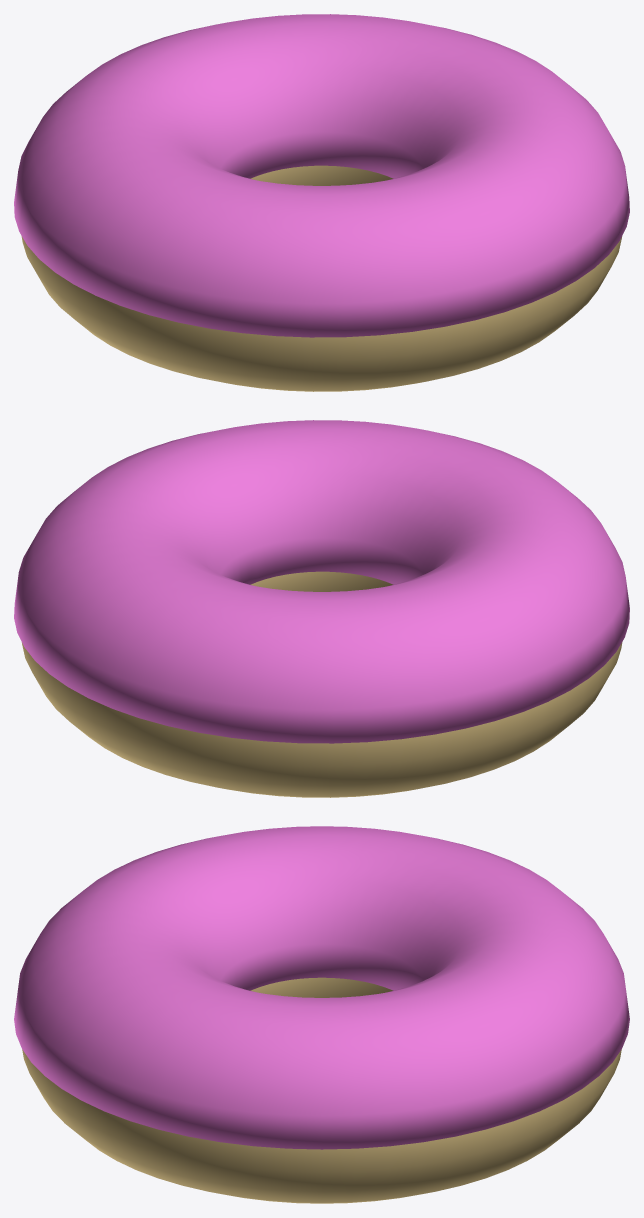
3 renders of one model, top to bottom at view 1: azimuth 30°, elevation 25°; view 2: azimuth 150°, elevation 25°; view 3: azimuth 270°, elevation 25°, orthographic.
Parts seen in each view (by area): view 1: Torus.002, Torus.001; view 2: Torus.002, Torus.001; view 3: Torus.002, Torus.001.
Boxes of the visible parts, box(x1,y1,x2,y2) form: Torus.002: box(14, 14, 629, 337); Torus.001: box(21, 165, 622, 391); Torus.002: box(14, 420, 629, 743); Torus.001: box(21, 571, 622, 797); Torus.002: box(14, 826, 629, 1149); Torus.001: box(22, 977, 621, 1203).
Bounding box in the file's own units: 3.03 × 1.02 × 3.03.
